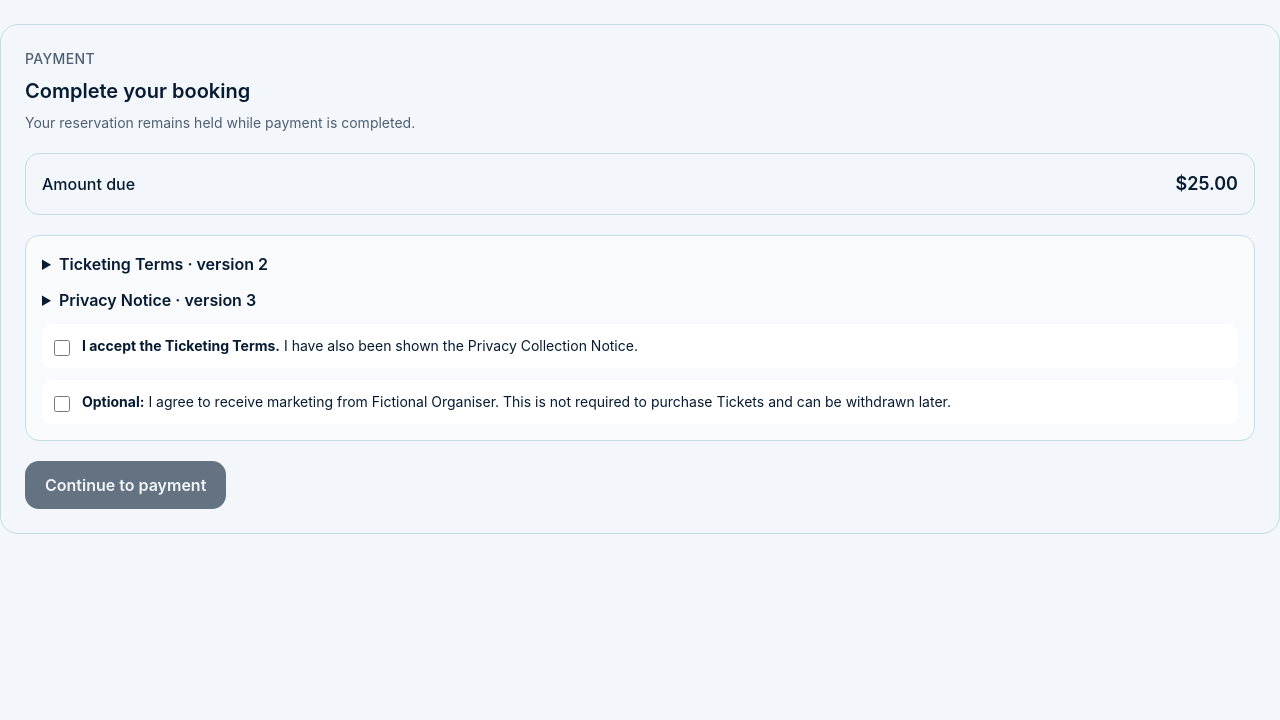
Test: PaymentStep checkout evidence › keeps payment disabled until terms are accepted and marketing remains optional
Expected: the heading "Ticketing Terms · version 2" is shown, [59, 254, 268, 274]
Expected: the button "Continue to payment" is disabled, [25, 461, 226, 509]
Click the 1st checkbox: (62, 348) [54, 340, 70, 356]
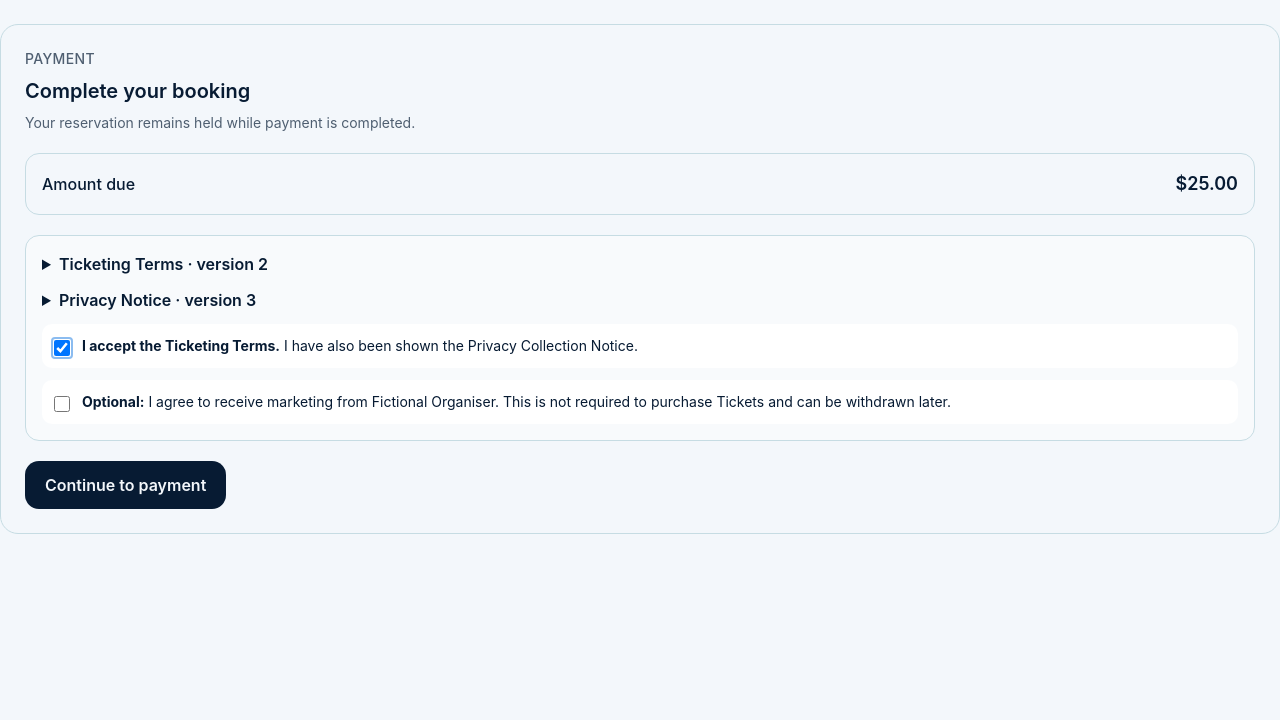
Expected: the 2nd checkbox is not checked, [54, 396, 70, 412]
Expected: the button "Continue to payment" is enabled, [25, 461, 226, 509]
